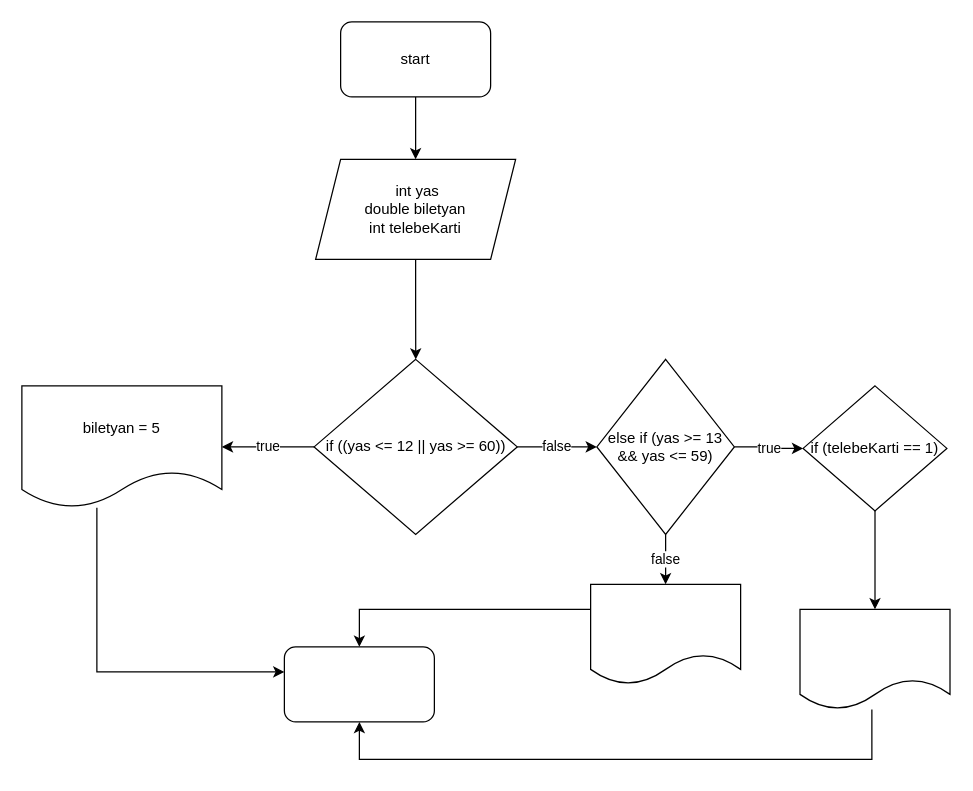
Image size: 973x791. Some labels were removed from this diagram. Here are the shapes that lost their labels. From the top down, the centre of each, then its label:
At (665,633): "biletyan = 10".
At (874,658): "biletyan = 7.5".
At (358,684): "end".
